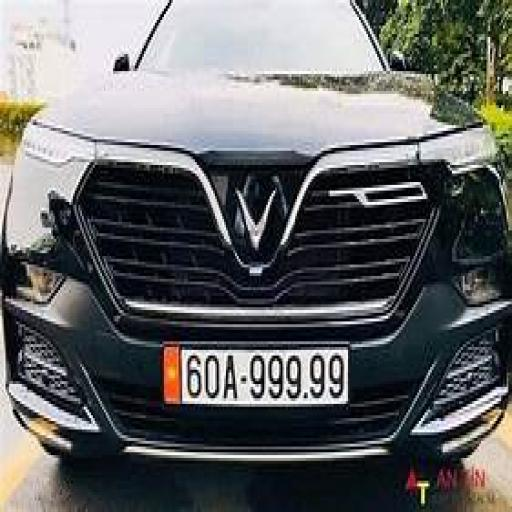place: (184, 349, 347, 401)
